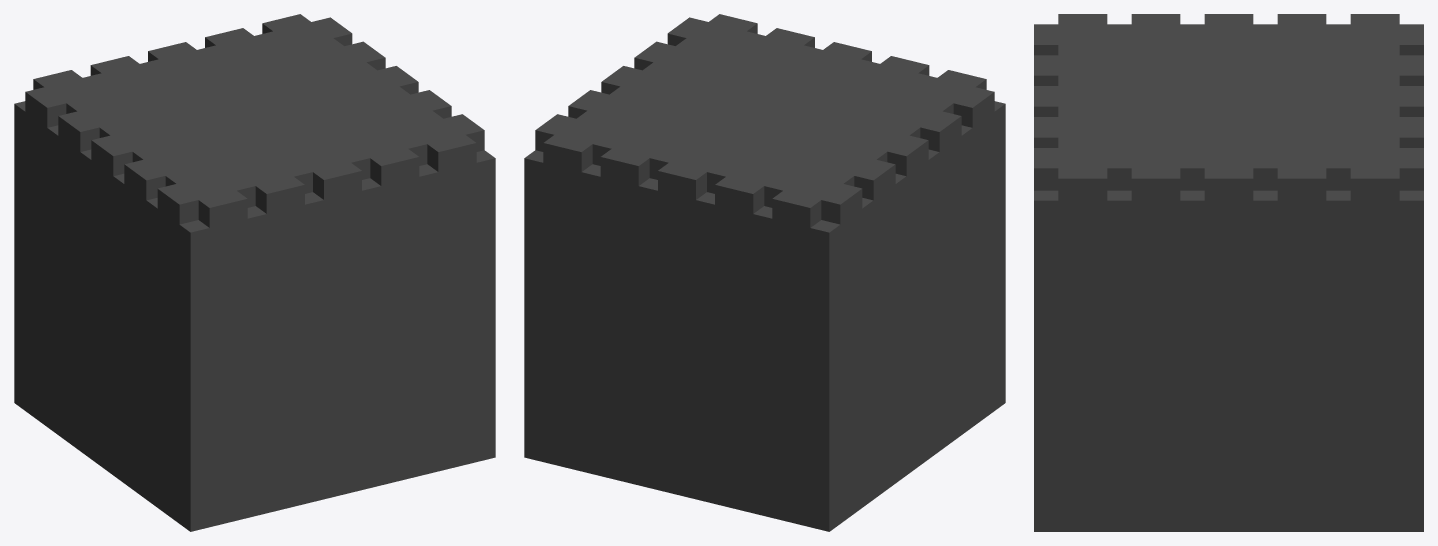
File: Moyou5.obj
3 renders of one model, left to right at view 1: azimuth 30°, elevation 25°; view 2: azimuth 150°, elevation 25°; view 3: azimuth 270°, elevation 25°, orthographic. The views are drawn at different scales.
Visible parts, largest first — view 1: Moyou5; view 2: Moyou5; view 3: Moyou5.
Boxes of the visible parts, x1,y1,x2,y2 form: Moyou5: (14, 14, 495, 531); Moyou5: (524, 14, 1005, 531); Moyou5: (1034, 14, 1423, 531).
Size of the model in its own units: 16 by 16 by 16.
1 material, 1 textured.
